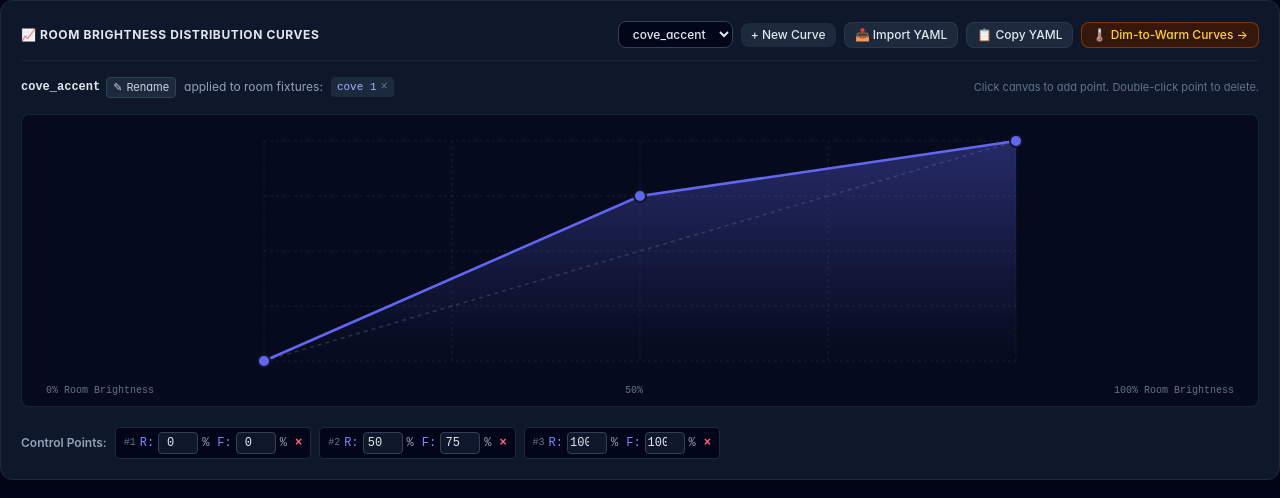
CurveEditor.vue › submitting a valid new name renames curve, updates dictionary key and selection
Click the button "✎ Rename" at (141, 87), box [106,77,176,98]
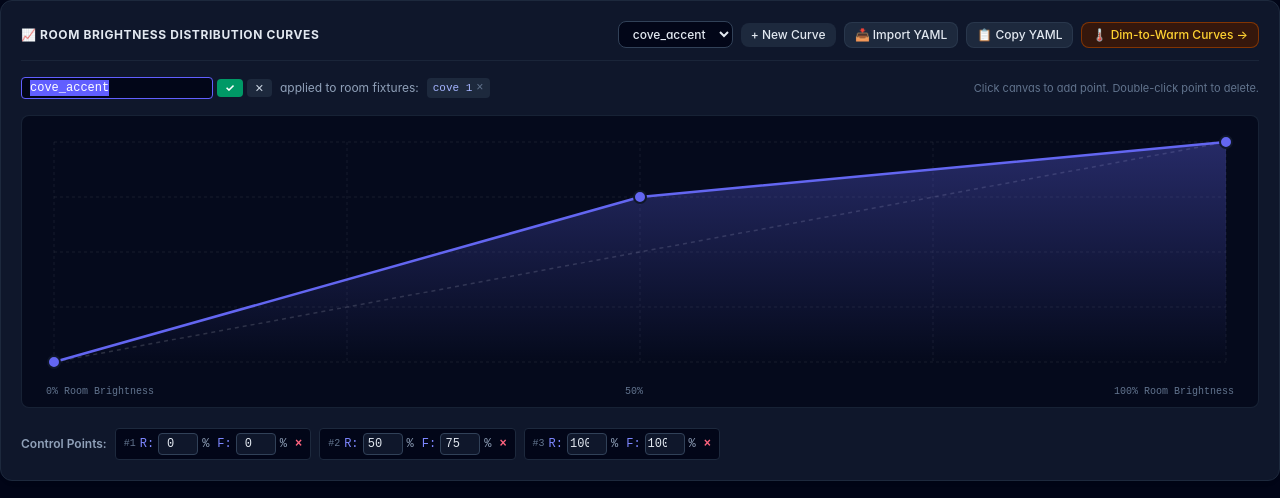
Replace the text in the field with placeholder "Curve name" with "cove_ambient" at (117, 88), box [21,77,213,99]
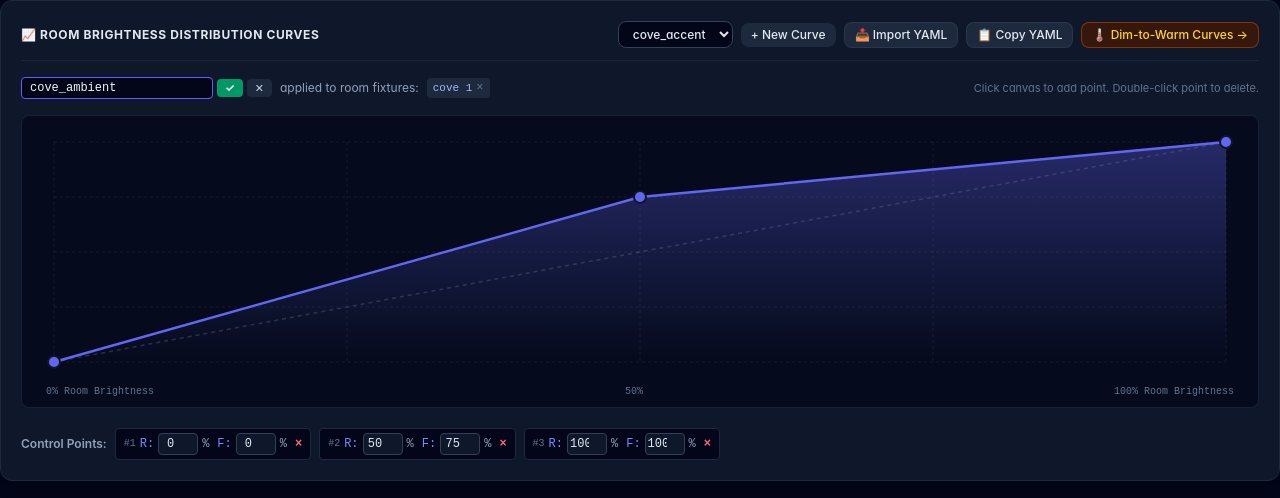
Click the button titled "Save new name" at (230, 88), box [217,79,243,97]
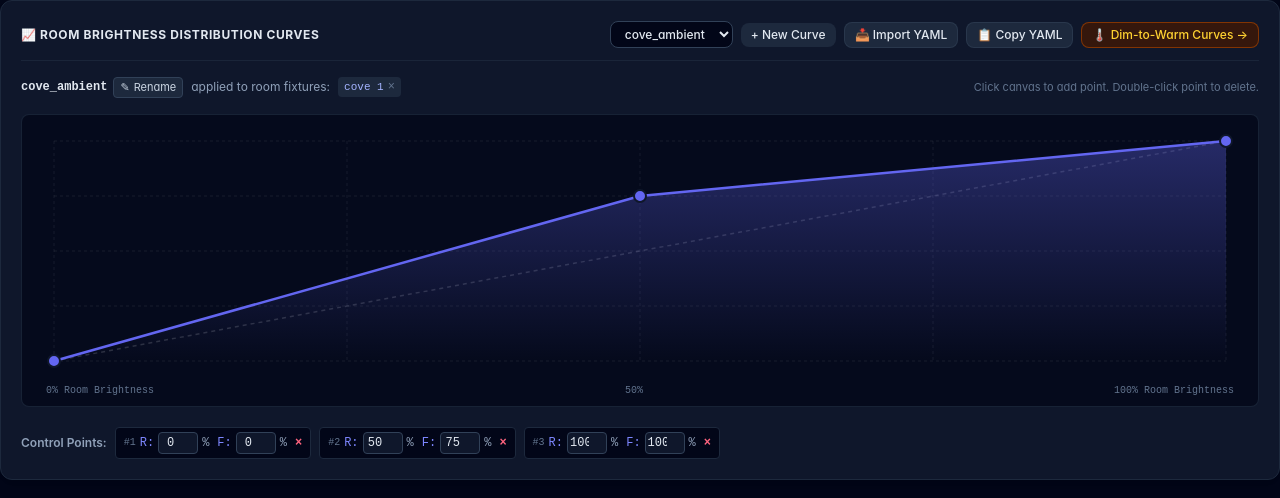
Check: the dropdown shows "cove_ambient", box [610,21,733,48]
Check: the text "cove_ambient" is shown, box [21,79,107,95]
